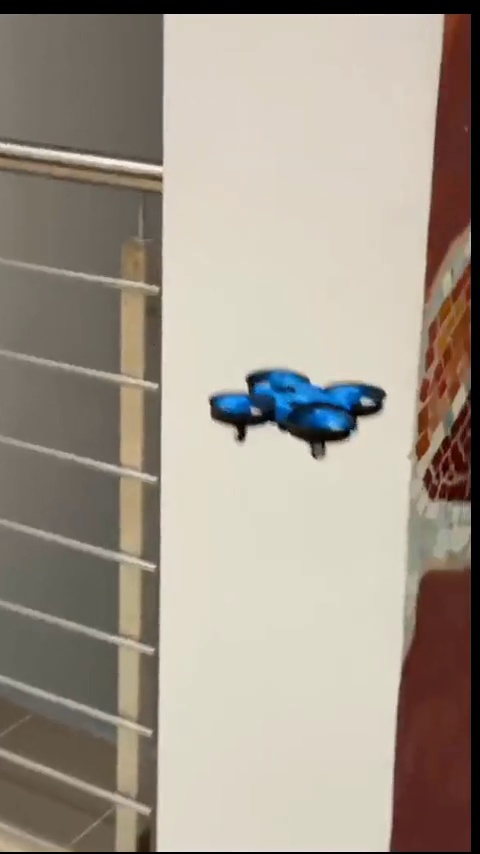drone: (209, 370, 380, 459)
